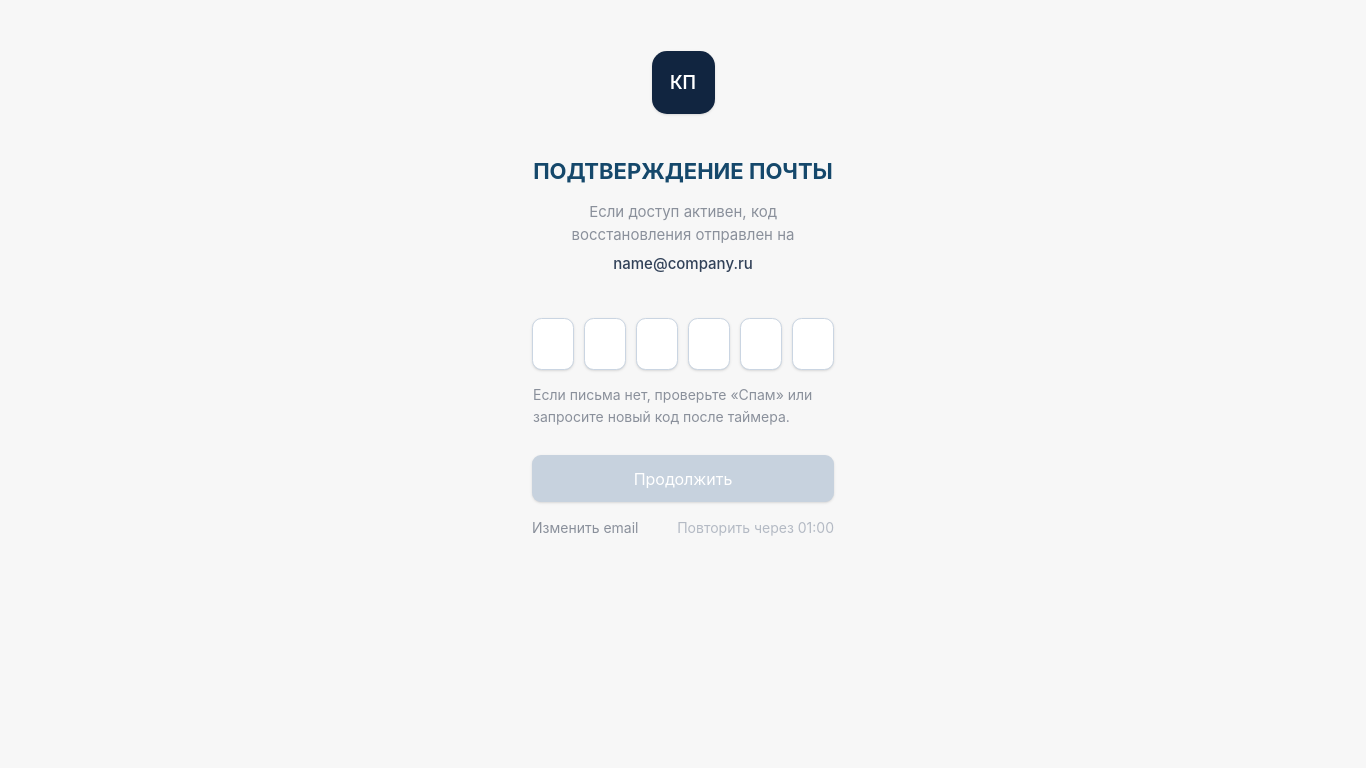
Password reset pages › submits the password reset code and opens the set-password step route
Expected: the text "Если доступ активен, код восстановления отправлен на" is shown, [572,202,794,244]
Expected: the form with test id "otp-verification-form" is shown, [532,318,834,538]
Click the field named "Код из письма" at (553, 344), box [532,318,574,370]
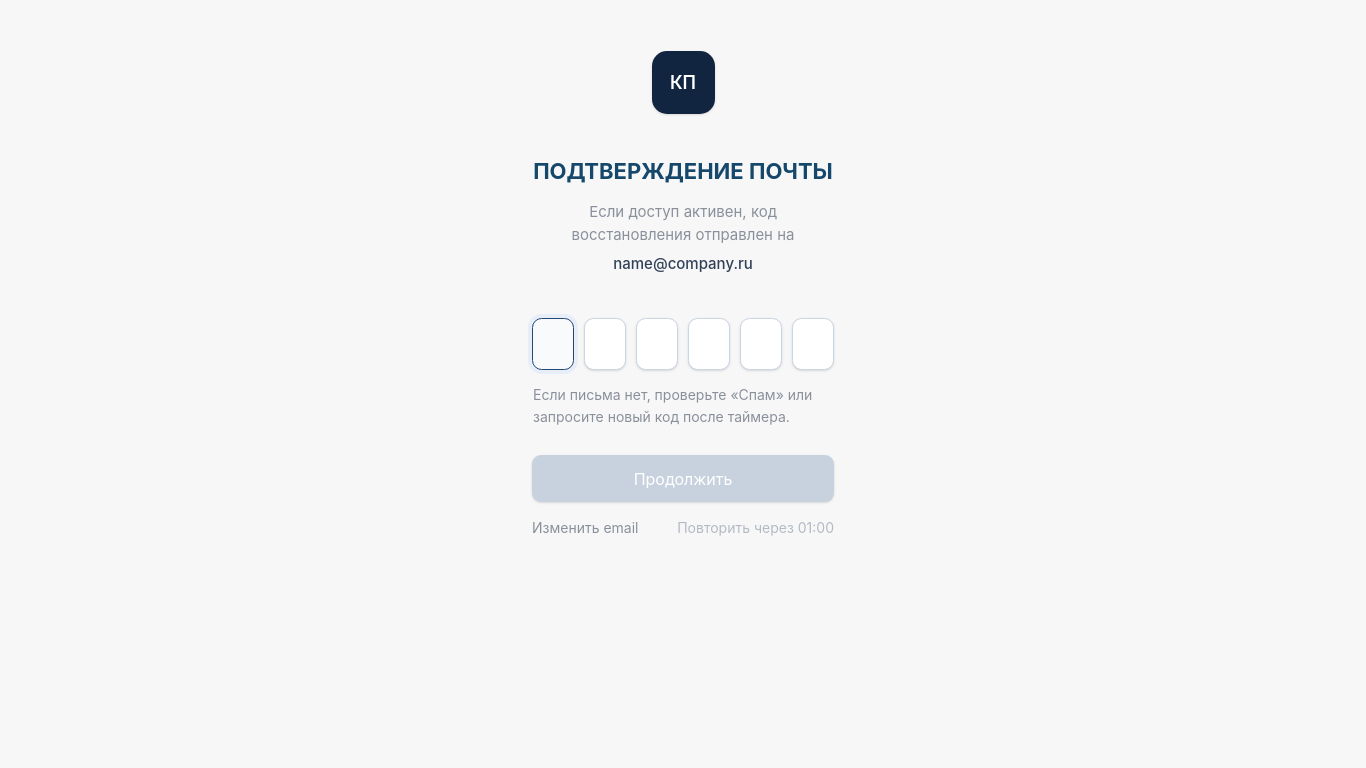
Type keys "123456"
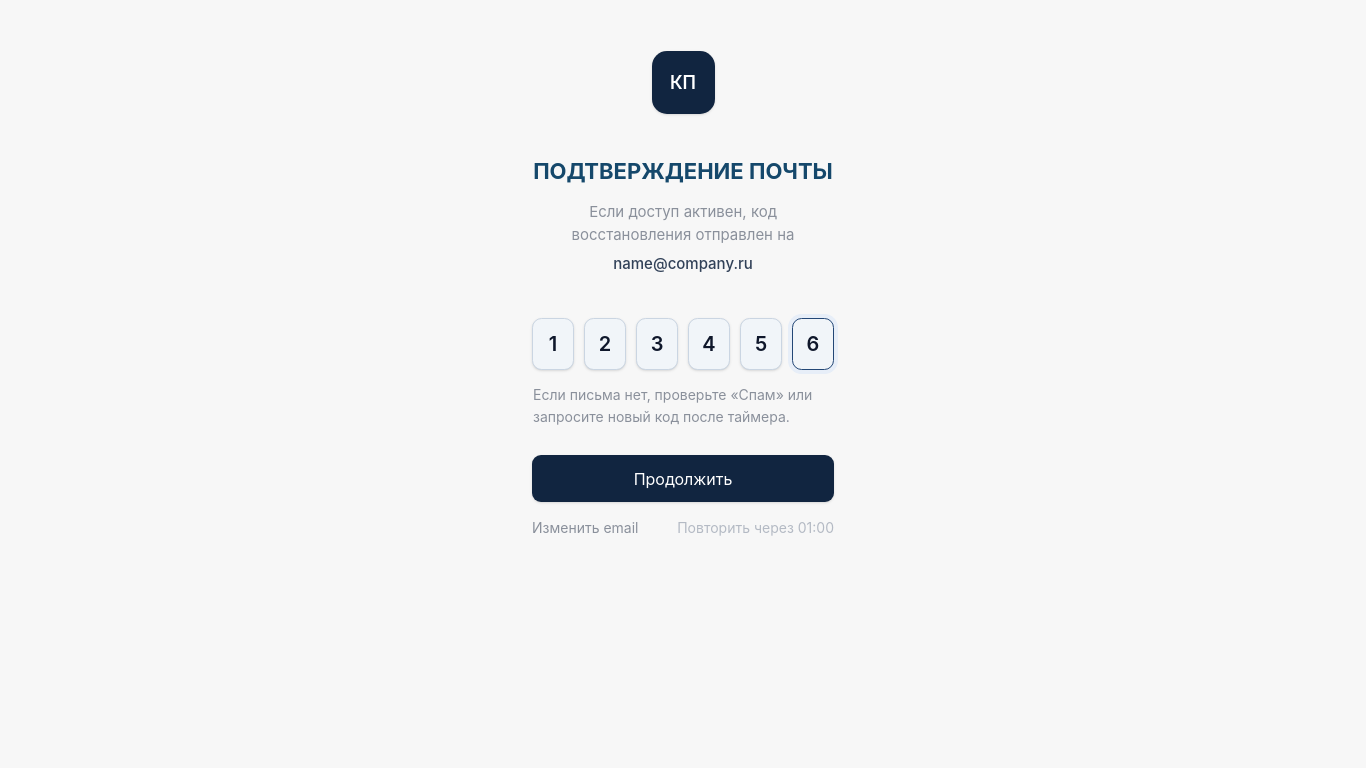
Click the button "Продолжить" at (683, 478), box [532,455,834,502]
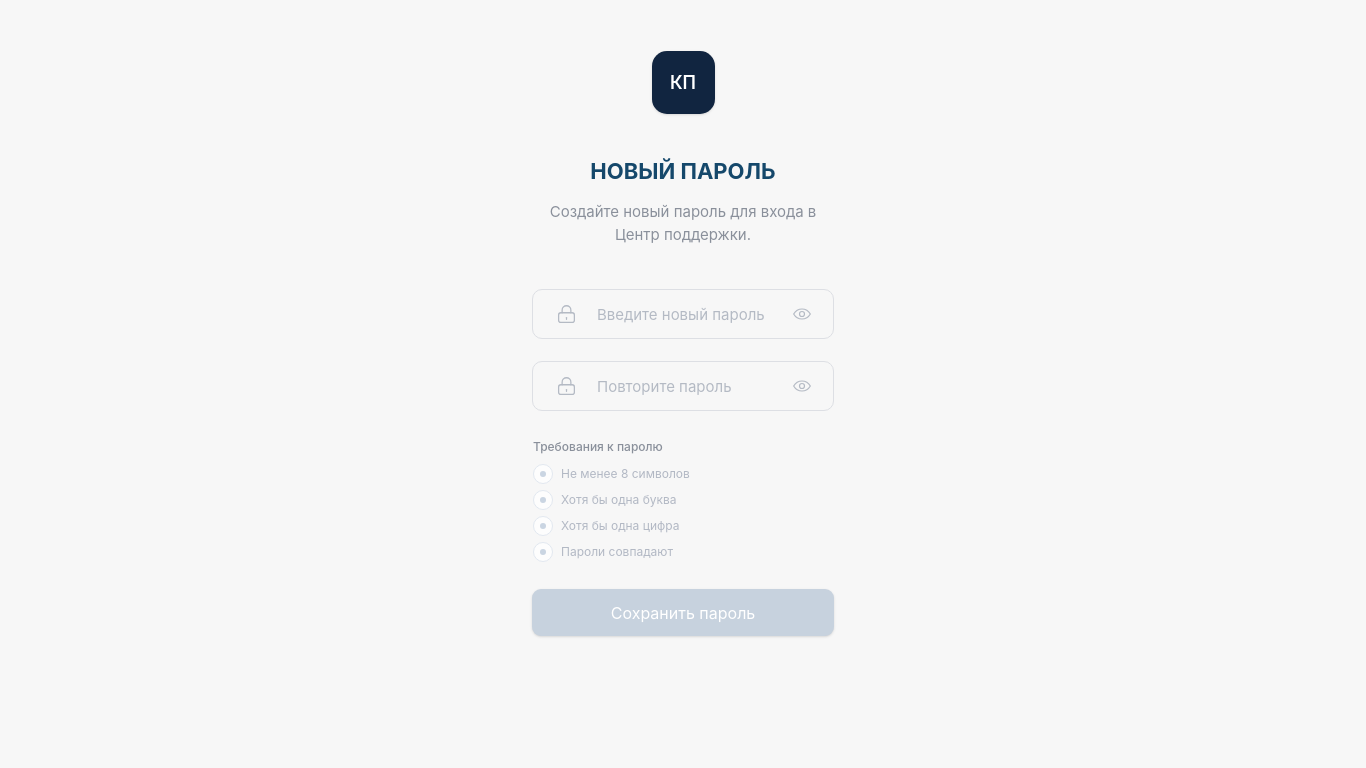
Expected: the heading "Новый пароль" is shown, [590,158,776,184]
